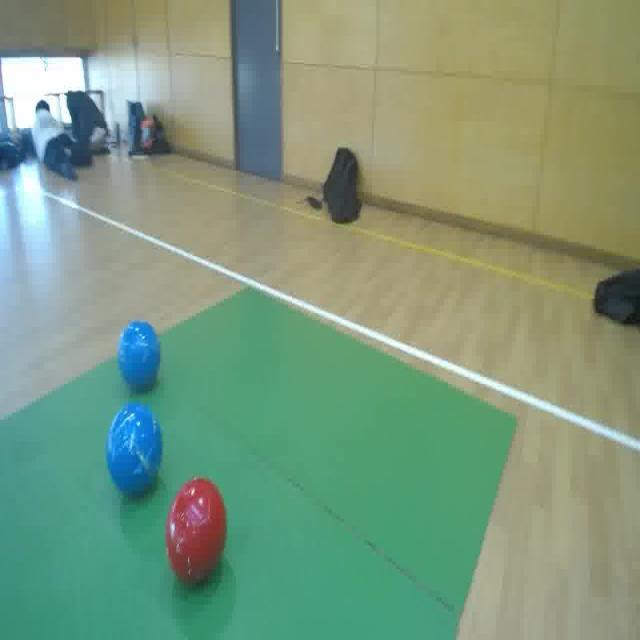blue_ball: (106, 402, 165, 498), (114, 314, 164, 396)
red_ball: (163, 474, 229, 589)
